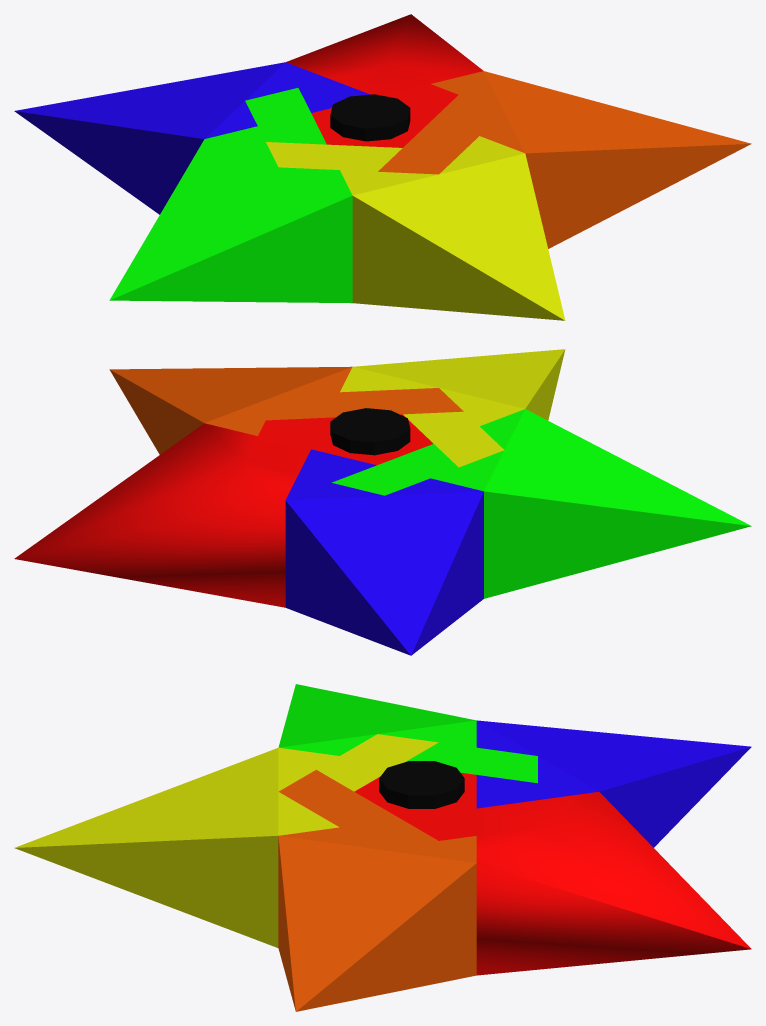
File: star puzzle.fbx
3 renders of one model, top to bottom at view 1: azimuth 30°, elevation 25°; view 2: azimuth 150°, elevation 25°; view 3: azimuth 270°, elevation 25°, orthographic. The views are drawn at different scales.
Visible parts, largest first — view 1: Circle.004, Circle.003, Circle.002, small, big, middle; view 2: big, Circle.004, small, Circle.002, Circle.003, middle; view 3: big, Circle.002, Circle.003, small, Circle.004, middle.
Part boxes in pixels (<box>): Circle.004: <box>109,88,352,303</box>; Circle.003: <box>266,136,565,320</box>; Circle.002: <box>378,71,751,248</box>; small: <box>14,62,369,214</box>; big: <box>286,14,483,147</box>; middle: <box>330,94,410,141</box>; big: <box>14,414,433,607</box>; Circle.004: <box>332,409,751,598</box>; small: <box>285,449,483,655</box>; Circle.002: <box>109,366,463,454</box>; Circle.003: <box>340,349,565,467</box>; middle: <box>330,408,410,455</box>; big: <box>354,772,751,975</box>; Circle.002: <box>278,769,476,1011</box>; Circle.003: <box>14,734,438,947</box>; small: <box>476,720,751,847</box>; Circle.004: <box>278,684,537,783</box>; middle: <box>379,761,464,808</box>.
Size of the model in its own units: 437 by 78.31 by 416.
